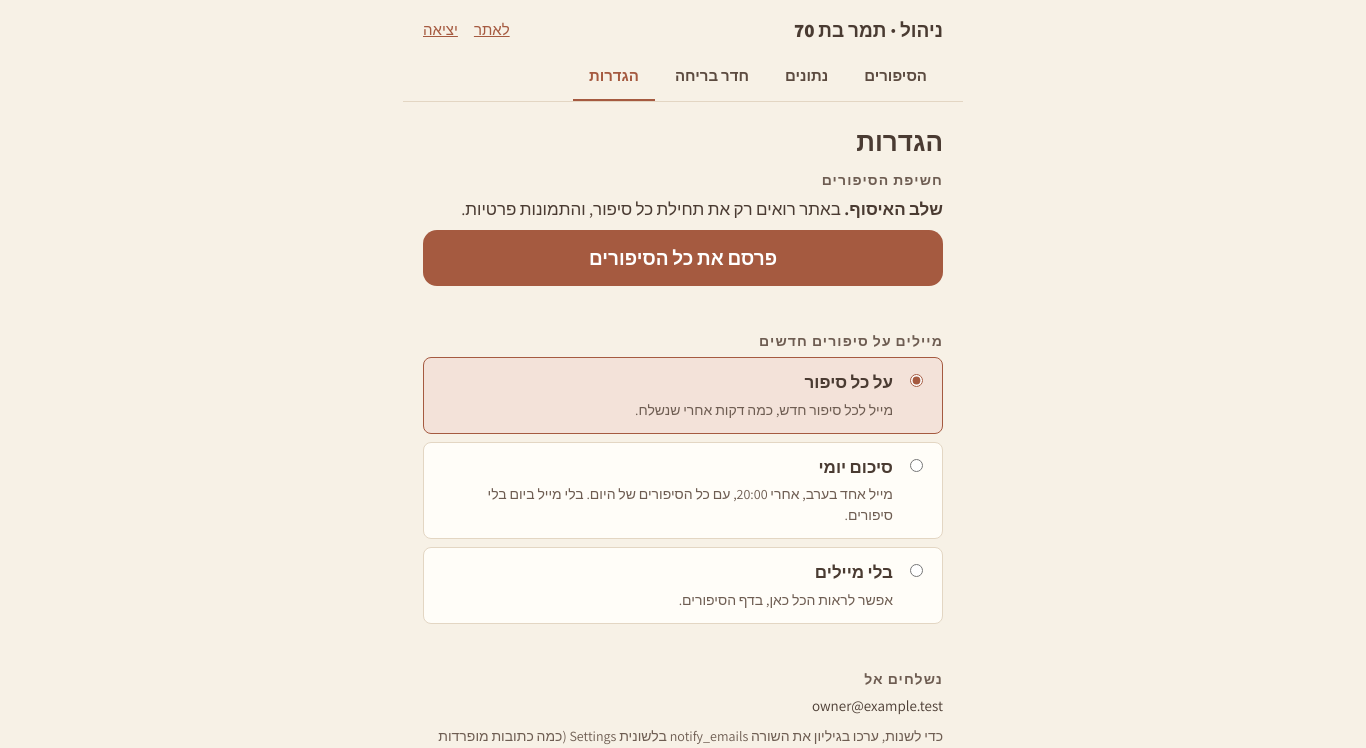
Scenario: admin pages › publishes all the stories after confirming
Click the button "פרסם את כל הסיפורים" at (683, 258), box 423,230 -> 943,286
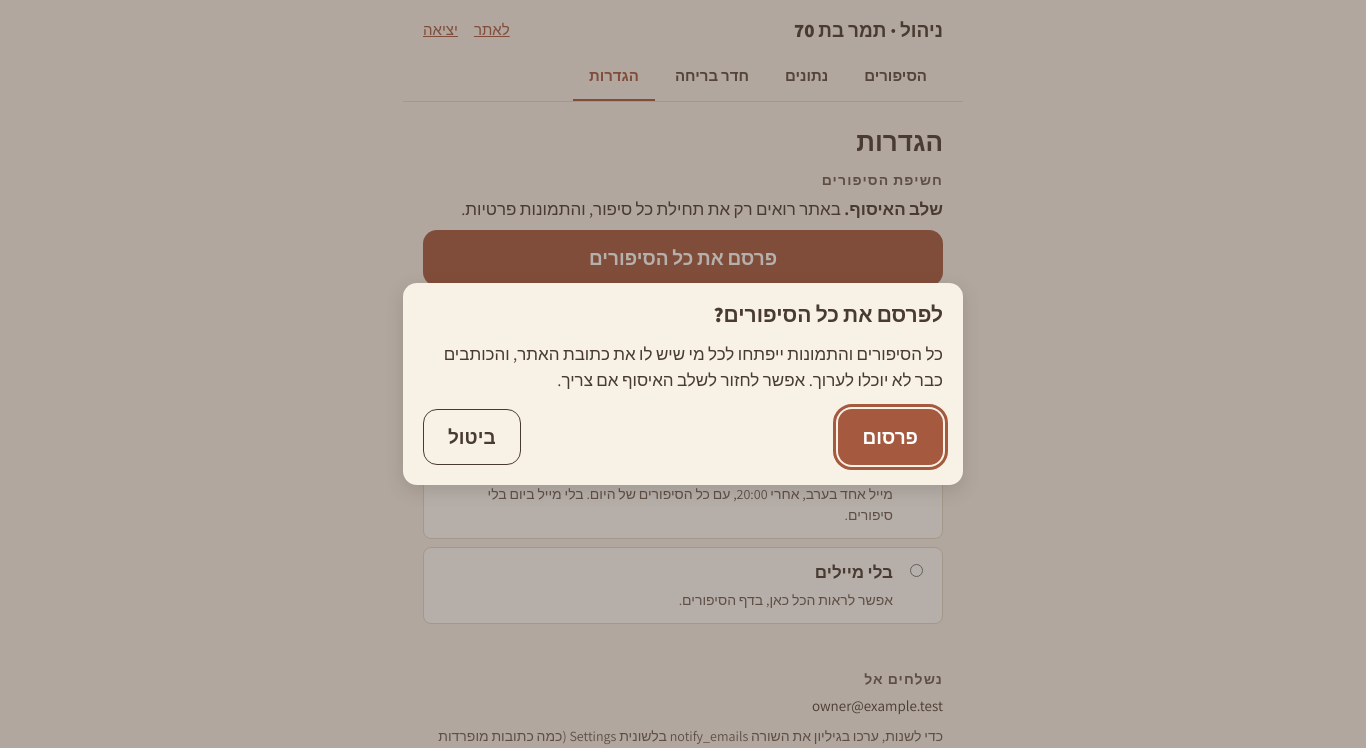
Click the button "פרסום" at (890, 437), box 838,409 -> 943,465
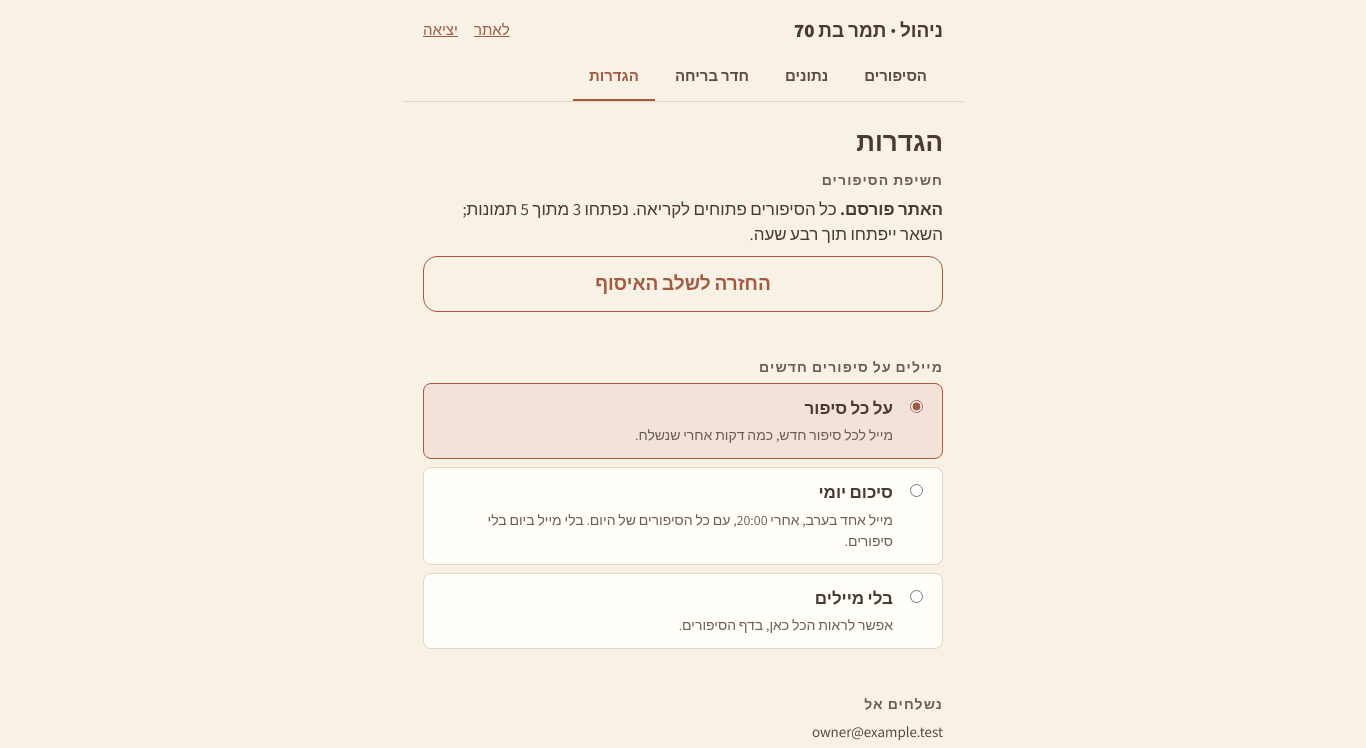
Now the text "נפתחו 3 מתוך 5 תמונות" is shown, box 462,198 -> 943,245
Now the button "החזרה לשלב האיסוף" is shown, box 423,256 -> 943,312
